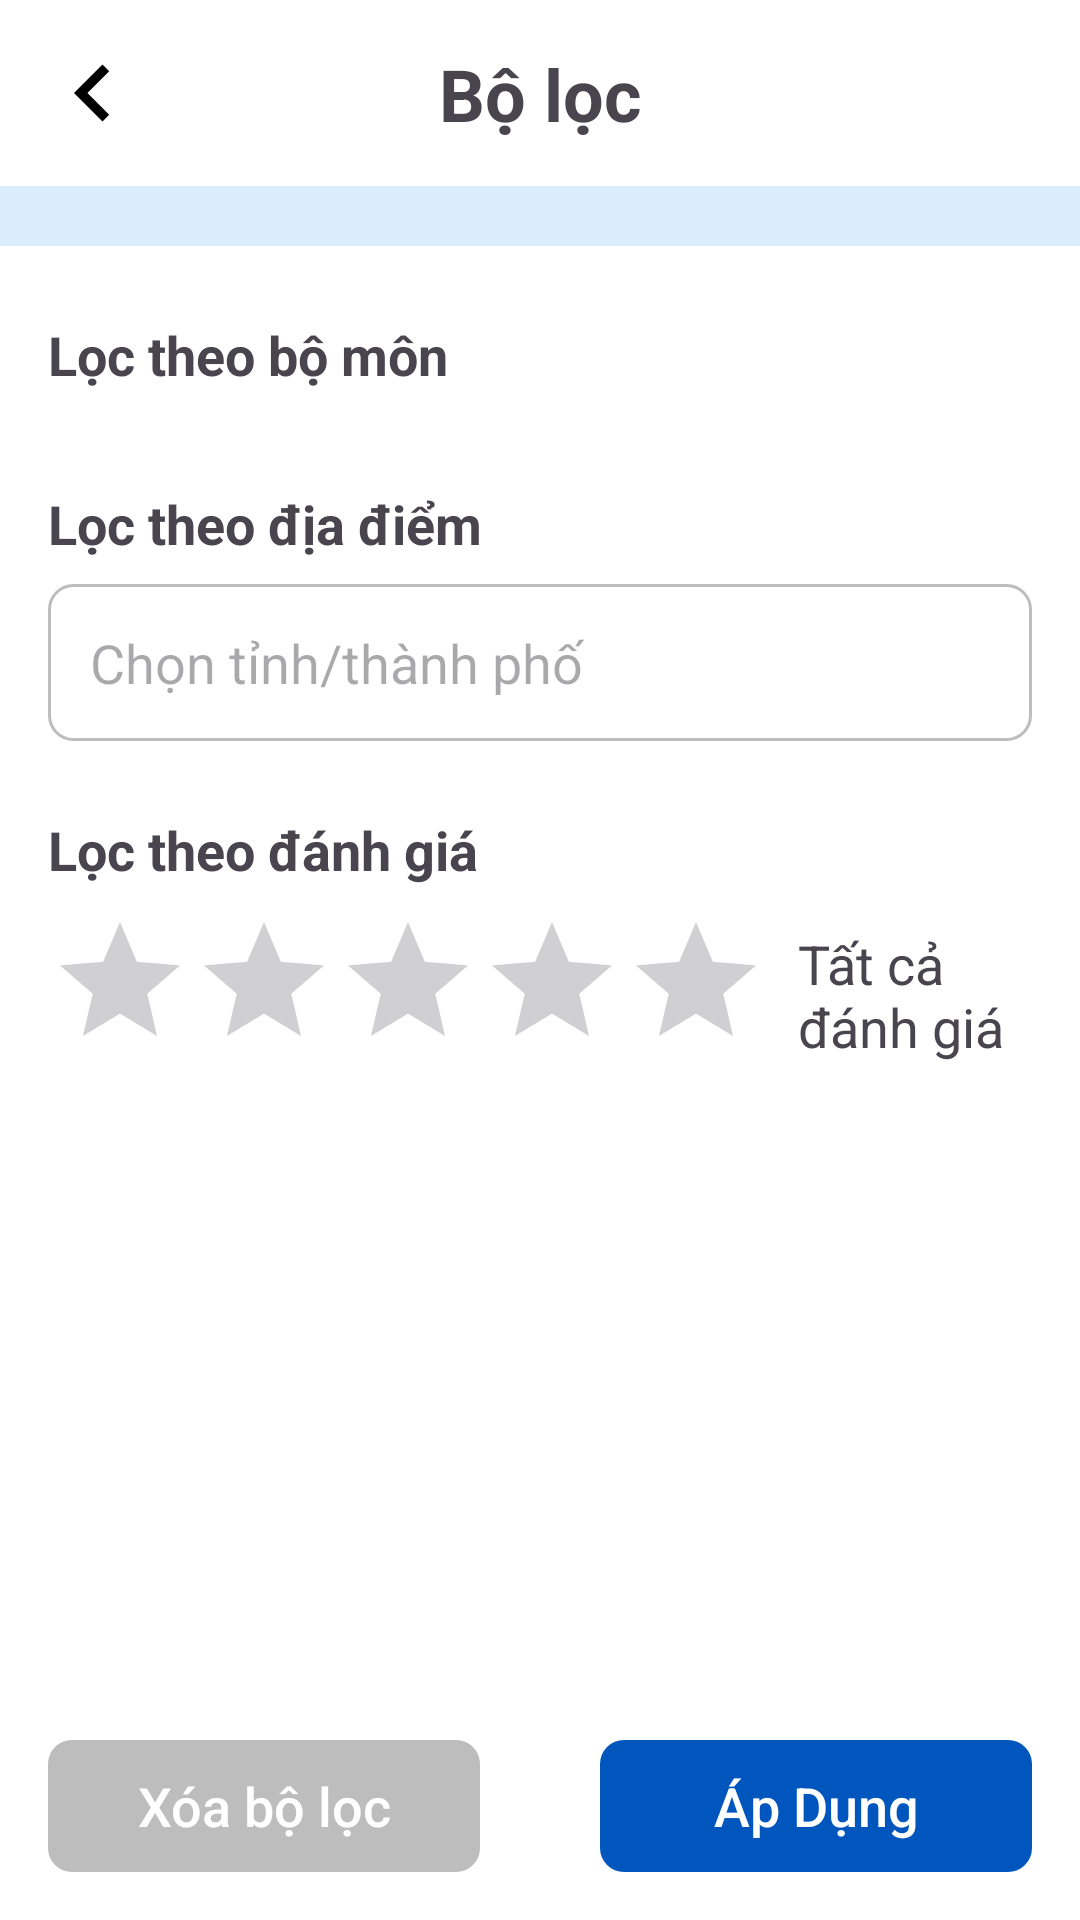

Named icons in this screenshot (1080*1920) and their centers, (x,y):
back: (91,93)
